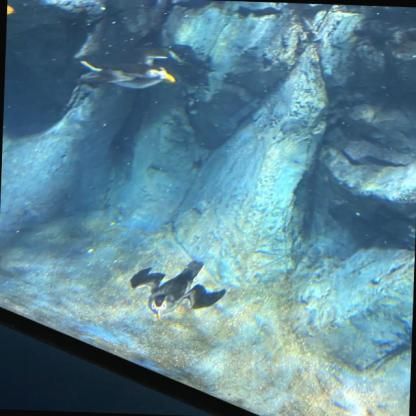puffin: (129, 258, 227, 323), (74, 46, 178, 90), (6, 2, 17, 30)
